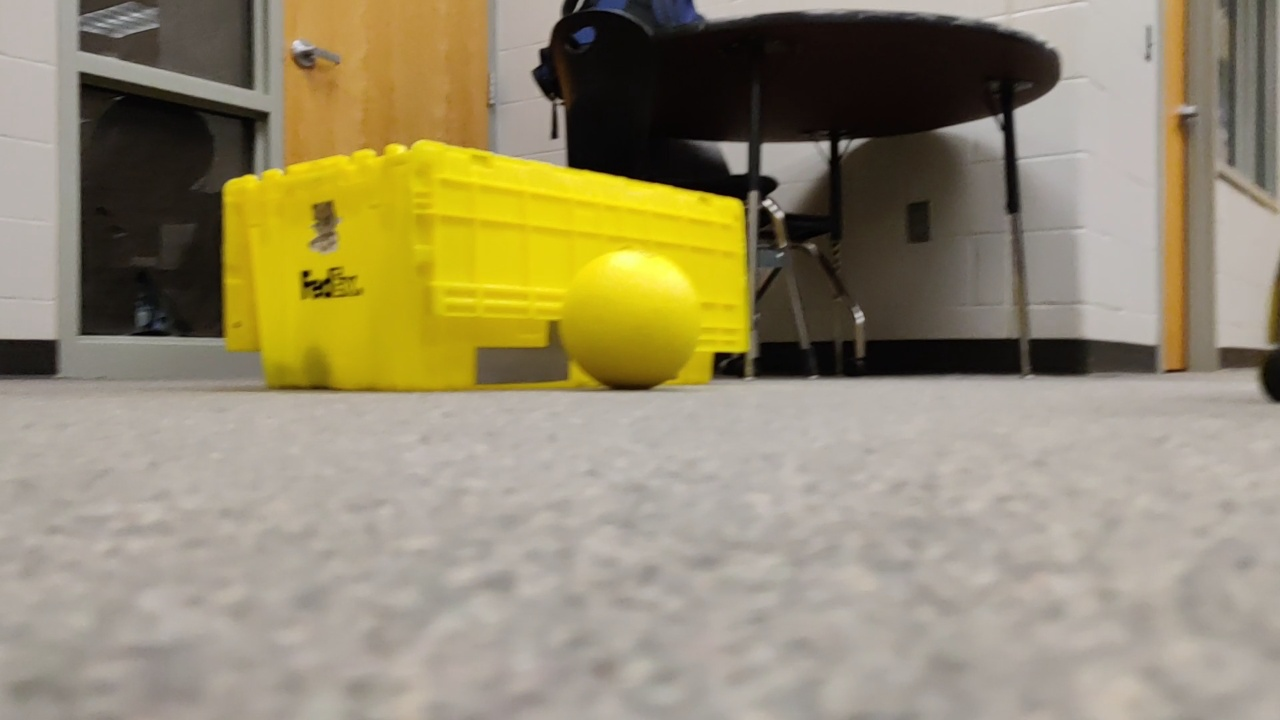Ball: (552, 247, 705, 393)
